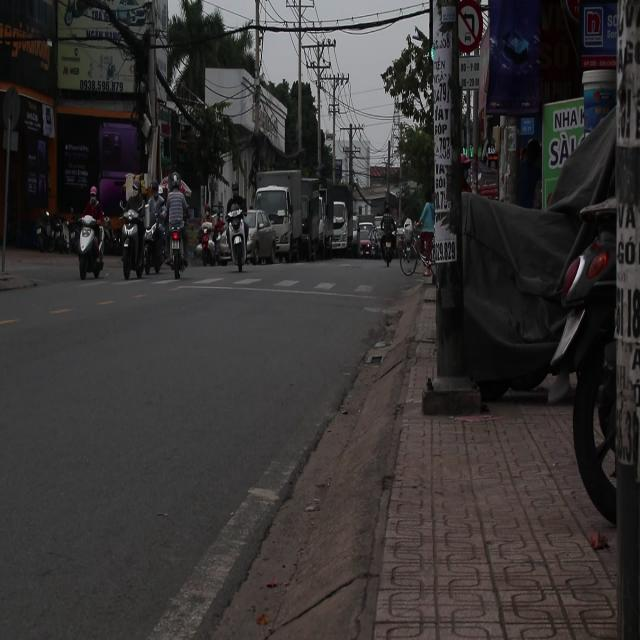car: (245, 208, 275, 264), (360, 226, 383, 259)
motorbike: (116, 188, 149, 280), (74, 210, 105, 280), (218, 205, 248, 268), (195, 222, 218, 269)
truck: (254, 170, 329, 263)
